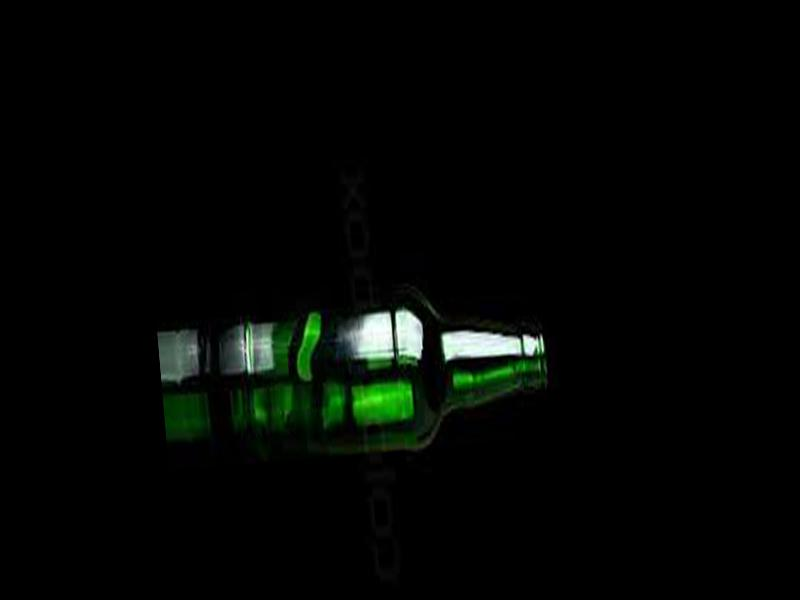Beer: (241, 296, 552, 465)
